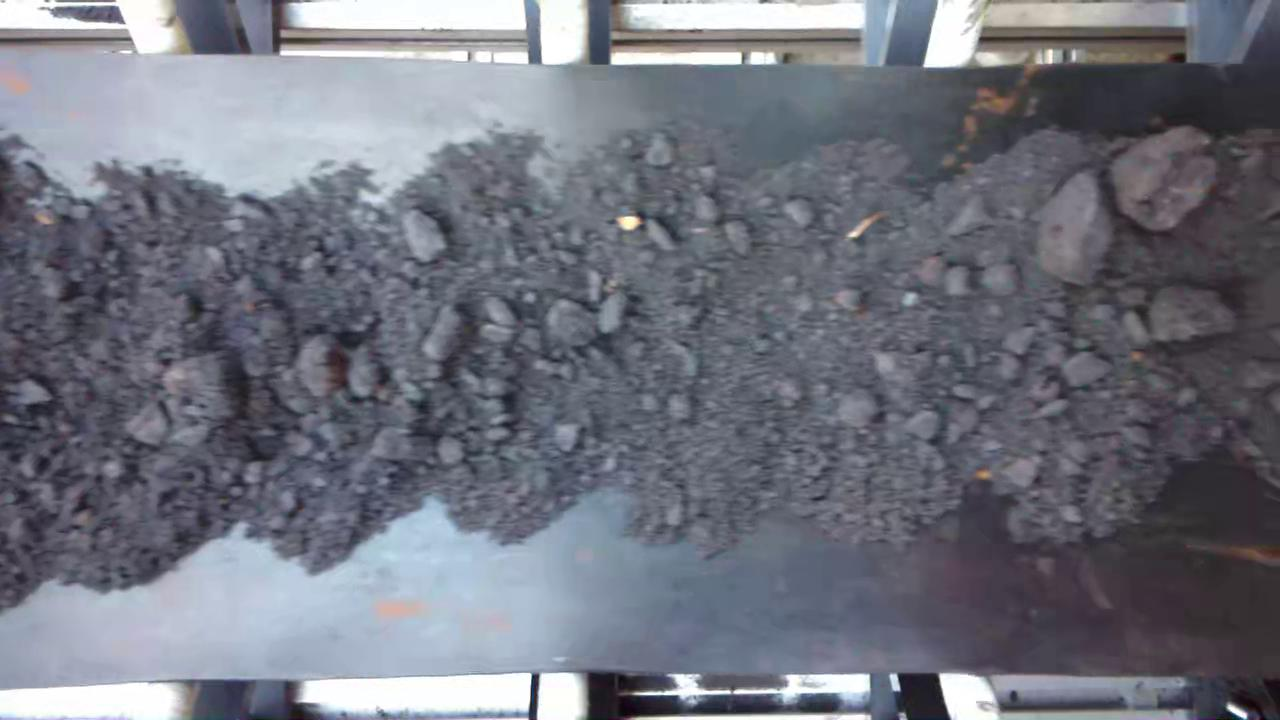conveyor: (1, 72, 1280, 662)
